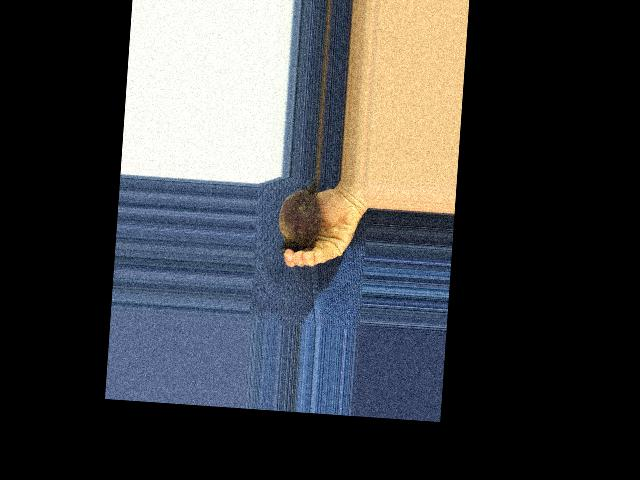beet: (277, 177, 325, 257)
